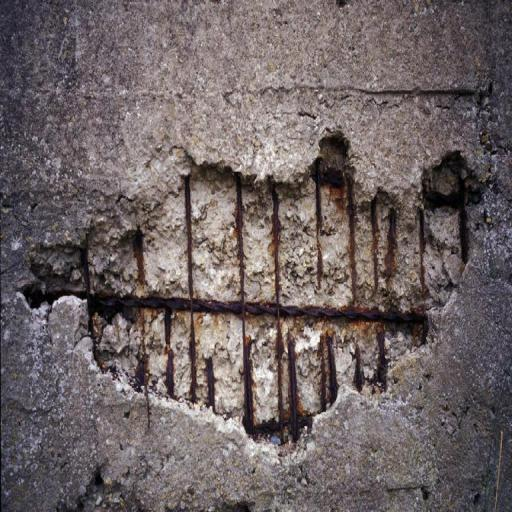spalling: (24, 126, 497, 459)
